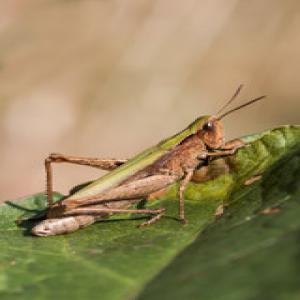locust: (24, 96, 268, 241)
